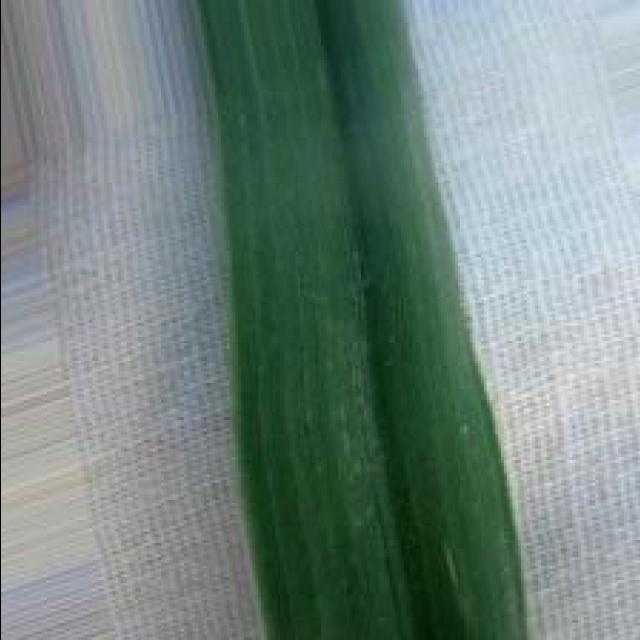Healthy: (195, 0, 527, 640)
